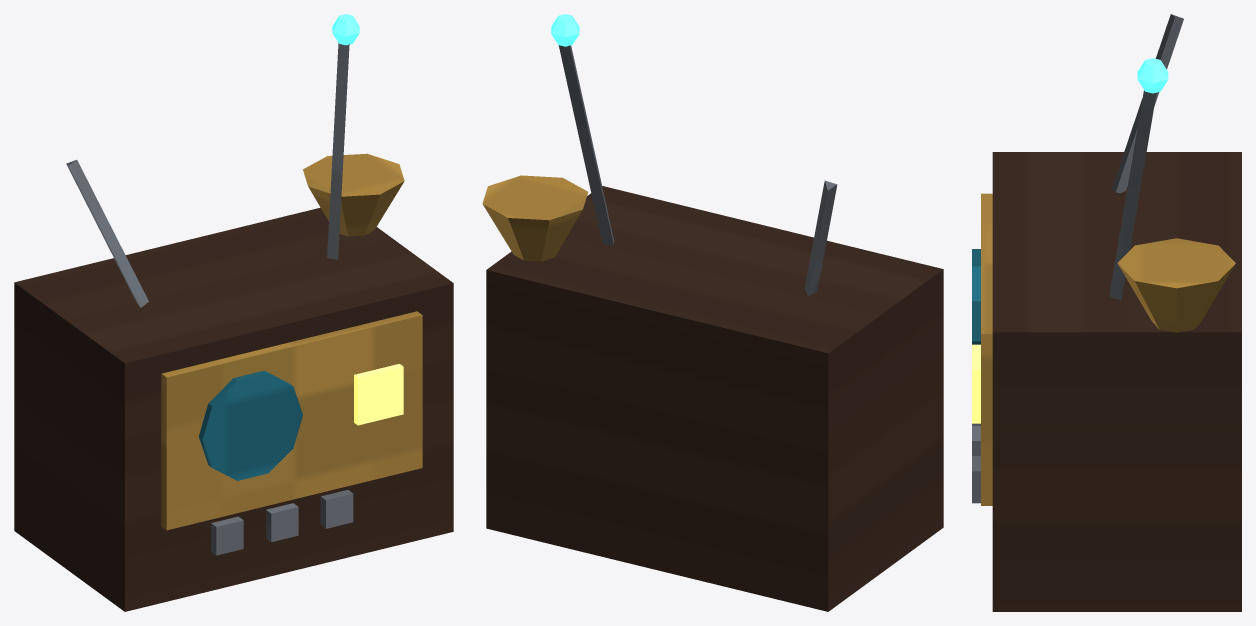
The model's file is SM_Prop_AetherComm_HQ.glb.
3 renders of one model, left to right at view 1: azimuth 30°, elevation 25°; view 2: azimuth 150°, elevation 25°; view 3: azimuth 270°, elevation 25°, orthographic. The views are drawn at different scales.
Visible parts, largest first — view 1: SM_Prop_AetherComm_HQ; view 2: SM_Prop_AetherComm_HQ; view 3: SM_Prop_AetherComm_HQ.
Boxes of the visible parts, x1,y1,x2,y2 form: SM_Prop_AetherComm_HQ: (14,14,453,611); SM_Prop_AetherComm_HQ: (482,14,943,611); SM_Prop_AetherComm_HQ: (972,14,1241,611).
Size of the model in its own units: 0.78 by 0.986 by 0.455.
1 material, 1 textured.
